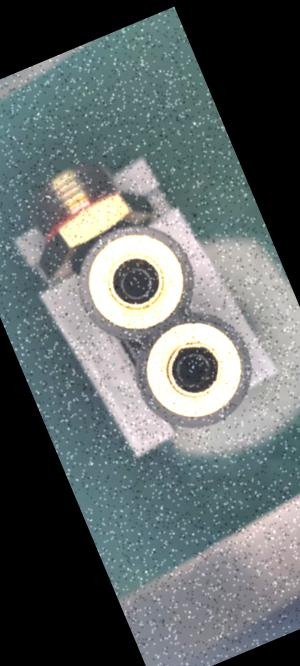bump: (166, 333, 200, 357)
off-centered: (165, 348, 221, 397)
